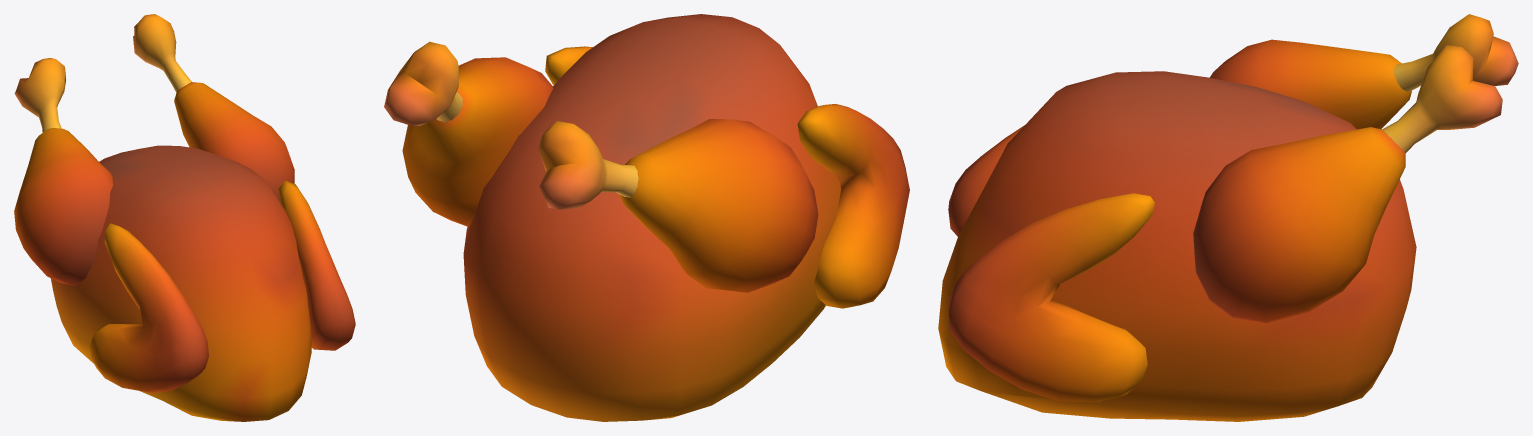
Rendered from chicken_001.fbx.
3 renders of one model, left to right at view 1: azimuth 30°, elevation 25°; view 2: azimuth 150°, elevation 25°; view 3: azimuth 270°, elevation 25°, orthographic. The views are drawn at different scales.
Parts seen in each view (by area): view 1: chicken_001; view 2: chicken_001; view 3: chicken_001.
Part boxes in pixels (<box>): chicken_001: <box>14,14,355,421</box>; chicken_001: <box>384,14,909,421</box>; chicken_001: <box>938,14,1518,421</box>.
Bounding box in the file's own units: 21.95 × 29.77 × 22.12.
